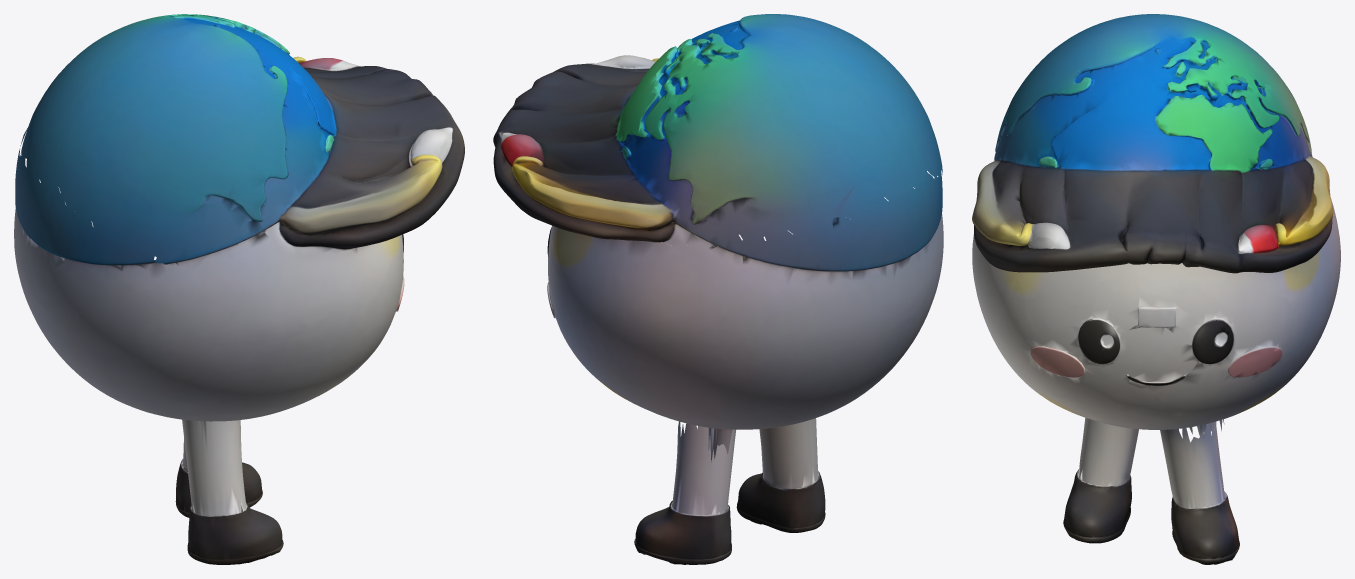
The model's file is keychain2.glb.
3 views of the same model, side by side, from view 1: azimuth 30°, elevation 25°; view 2: azimuth 150°, elevation 25°; view 3: azimuth 270°, elevation 25° (orthographic). The views are drawn at different scales.
Parts seen in each view (by area): view 1: cap2, mascot, lefty, righty; view 2: cap2, mascot, righty, lefty; view 3: cap2, mascot, righty, lefty.
Boxes of the visible parts, x1,y1,x2,y2 form: cap2: (20, 14, 464, 274); mascot: (14, 128, 404, 421); lefty: (182, 419, 283, 564); righty: (175, 438, 262, 517); cap2: (493, 14, 942, 248); mascot: (547, 171, 943, 461); righty: (634, 421, 735, 564); lefty: (736, 418, 825, 532); cap2: (972, 14, 1333, 273); mascot: (972, 197, 1340, 436); righty: (1160, 421, 1239, 564); lefty: (1063, 418, 1138, 543).
Bounding box in the file's own units: 0.7543 × 0.9523 × 0.6499.
Materials: 1 (1 with a texture image).
